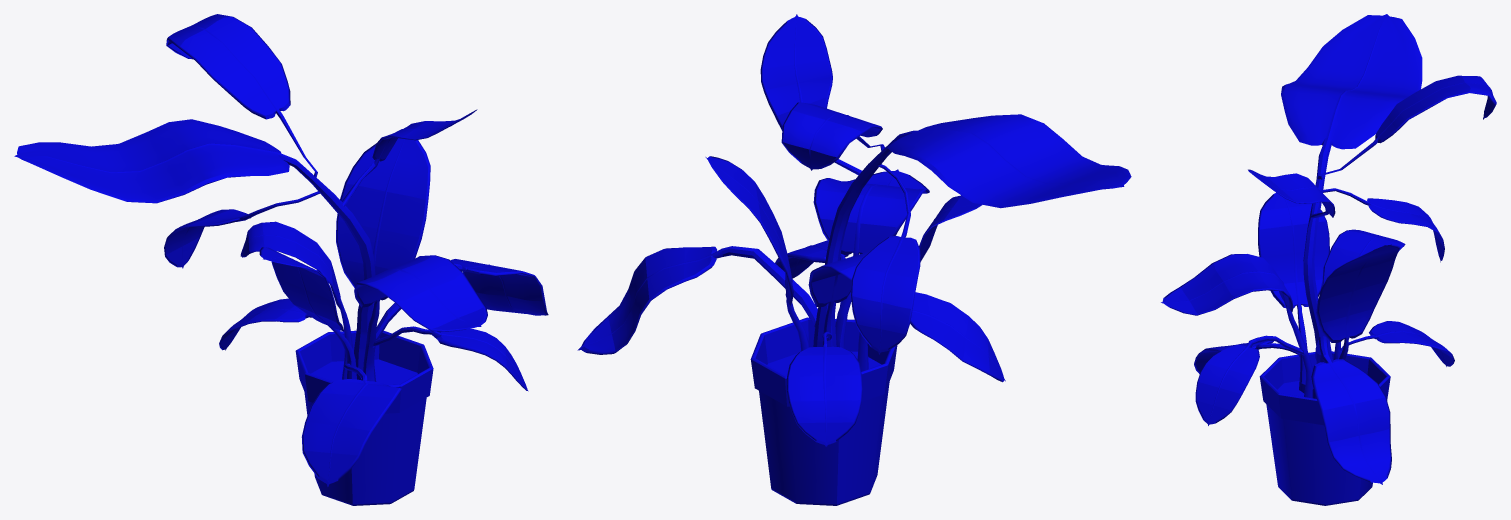
File: Plant_in_Pot_UV.fbx
3 renders of one model, left to right at view 1: azimuth 30°, elevation 25°; view 2: azimuth 150°, elevation 25°; view 3: azimuth 270°, elevation 25°, orthographic. The views are drawn at different scales.
Parts seen in each view (by area): view 1: pCube21, Pot2; view 2: pCube21, Pot2; view 3: pCube21, Pot2.
Part boxes in pixels (x1,y1,x2,y2): pCube21: (14,14,548,486); Pot2: (295,330,433,505); pCube21: (577,14,1131,447); Pot2: (750,317,897,505); pCube21: (1161,14,1496,484); Pot2: (1259,351,1390,505).
Size of the model in its own units: 92.95 by 72.76 by 59.28.
